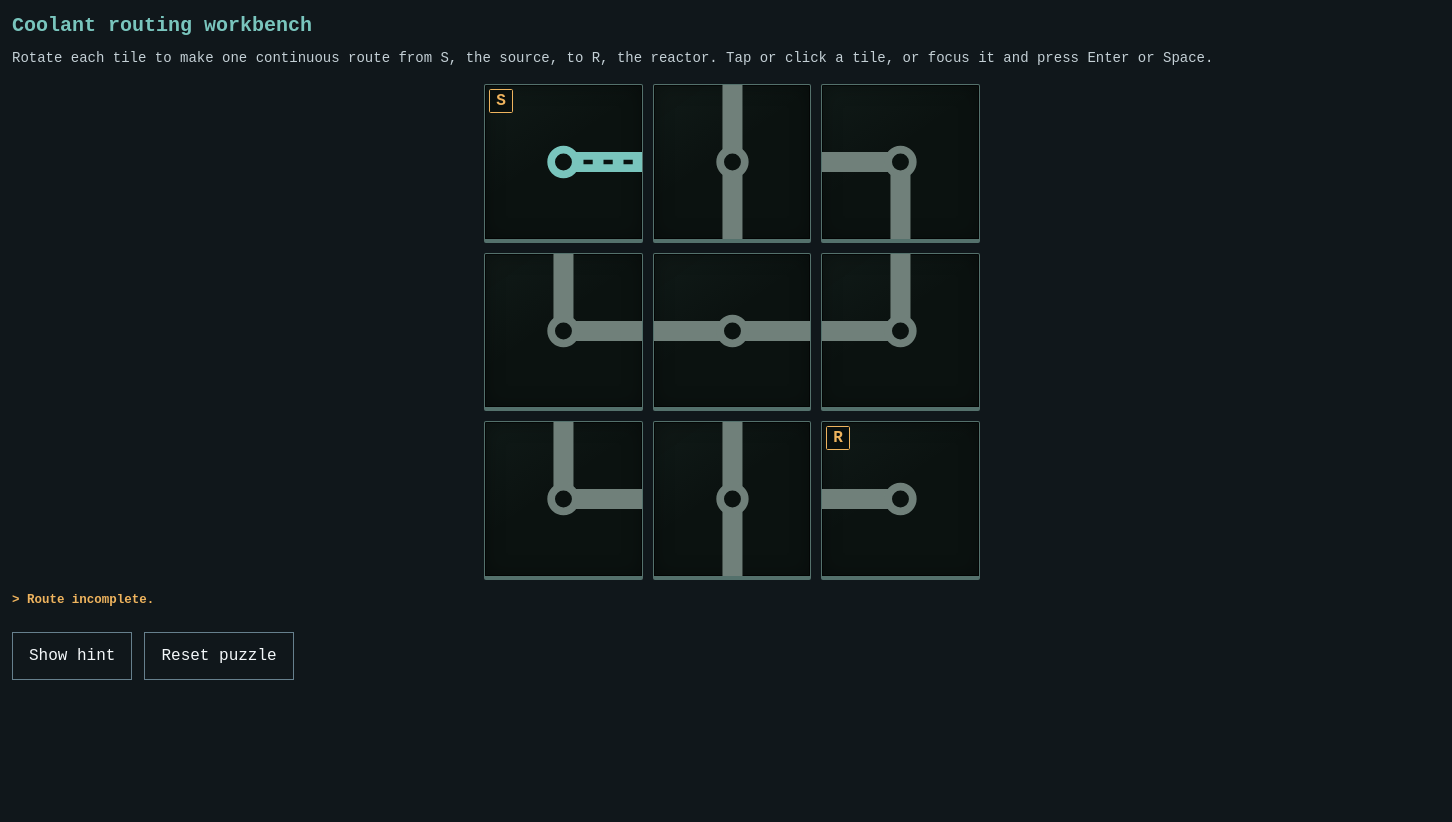
Test: CoolantPuzzle › resets puzzle state deterministically
Click the button named "Row 1, column 2," at (732, 163), box [652,84,811,243]
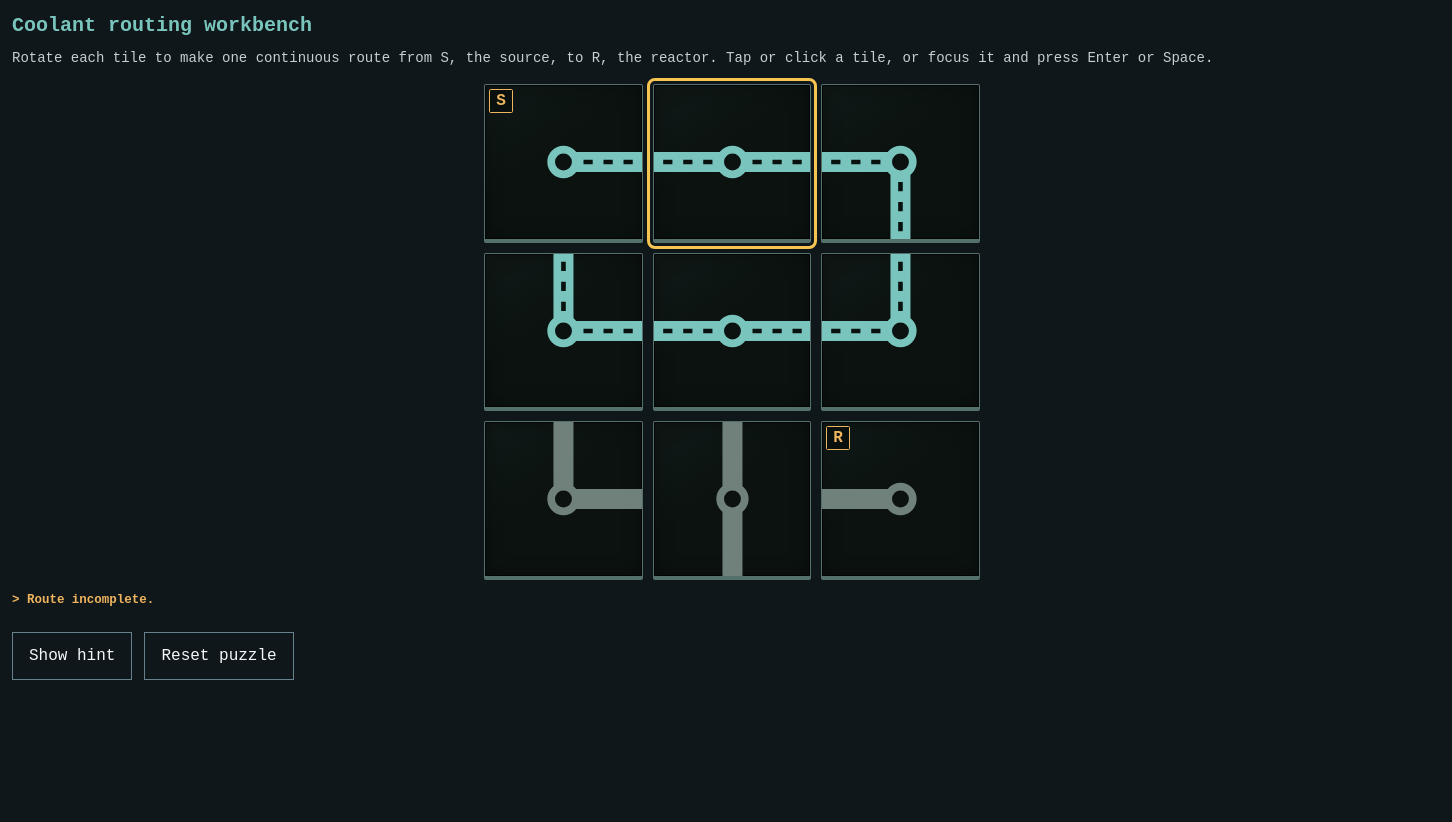
Click the button named "Row 2, column 1," at (563, 332), box [484,252,643,411]
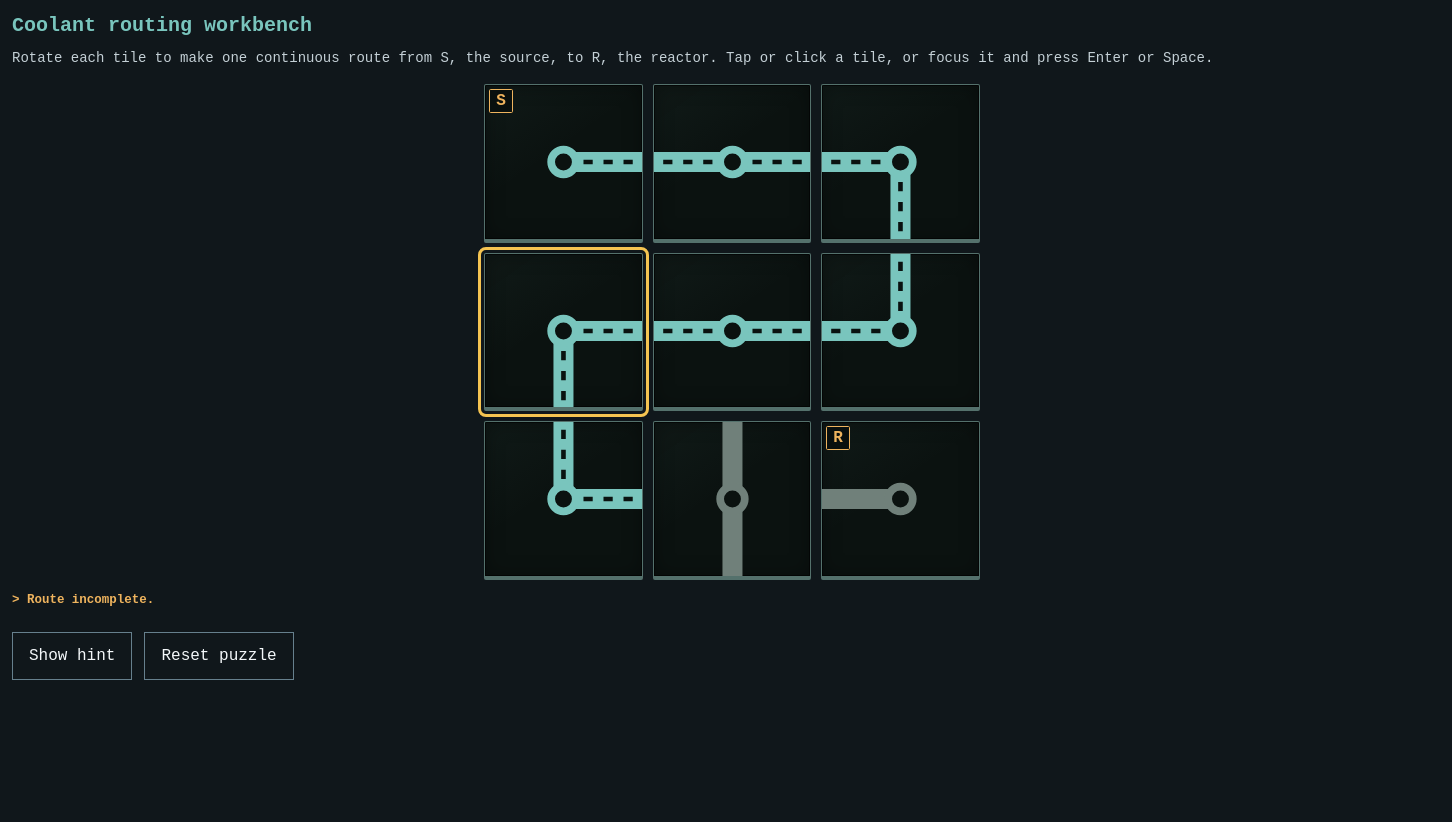
Click the button named "Row 3, column 2," at (732, 501), box [652,421,811,580]
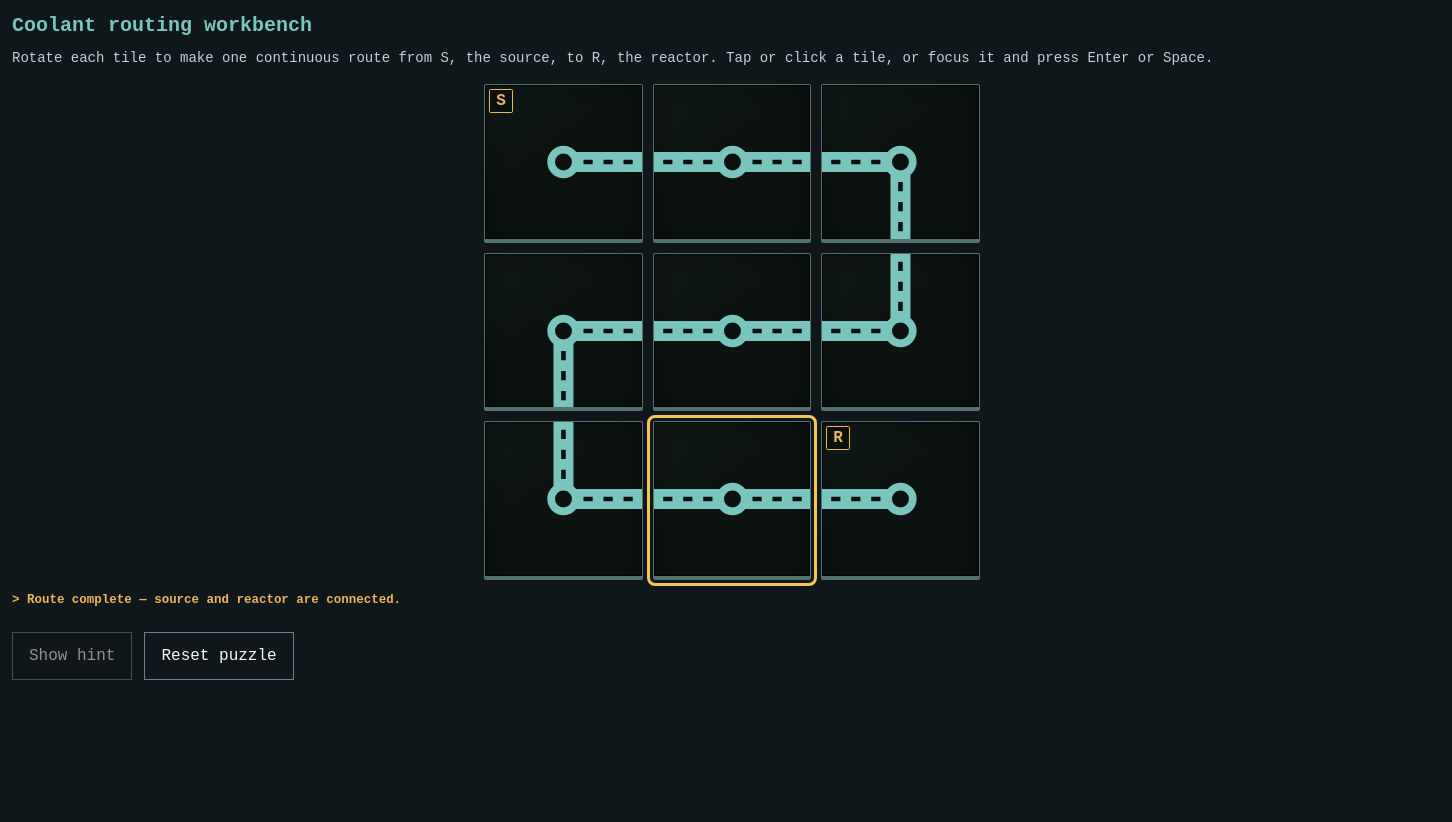
Click the button "Reset puzzle" at (219, 656), box [144,632,294,680]
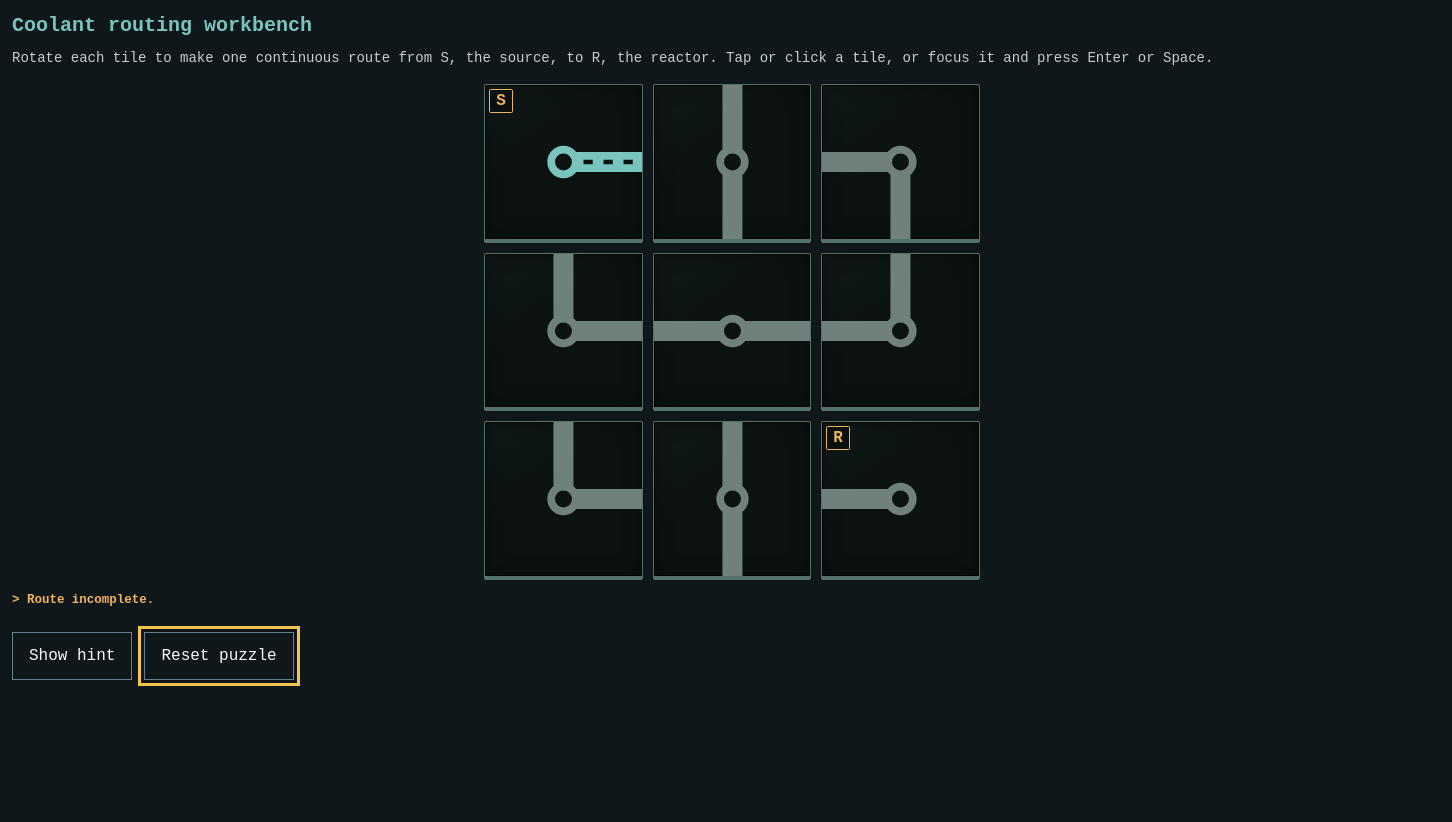
Now the text "Route incomplete." is shown, box [27,593,154,607]
Now the button "Show hint" is enabled, box [12,632,132,680]
